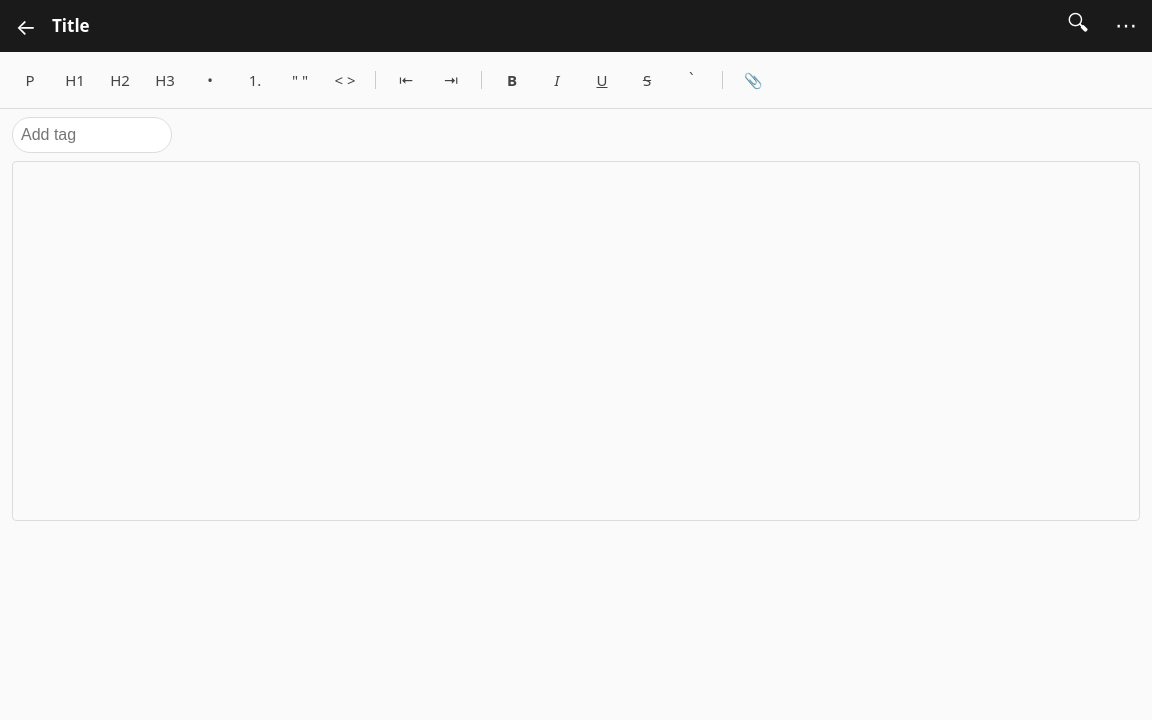
Test: NoteEditor on mobile › offers Share and Debug in the menu with share_note permission
Click the button named "Menu" at {"x": 1126, "y": 26}, box x1=1104 y1=4 x2=1148 y2=48
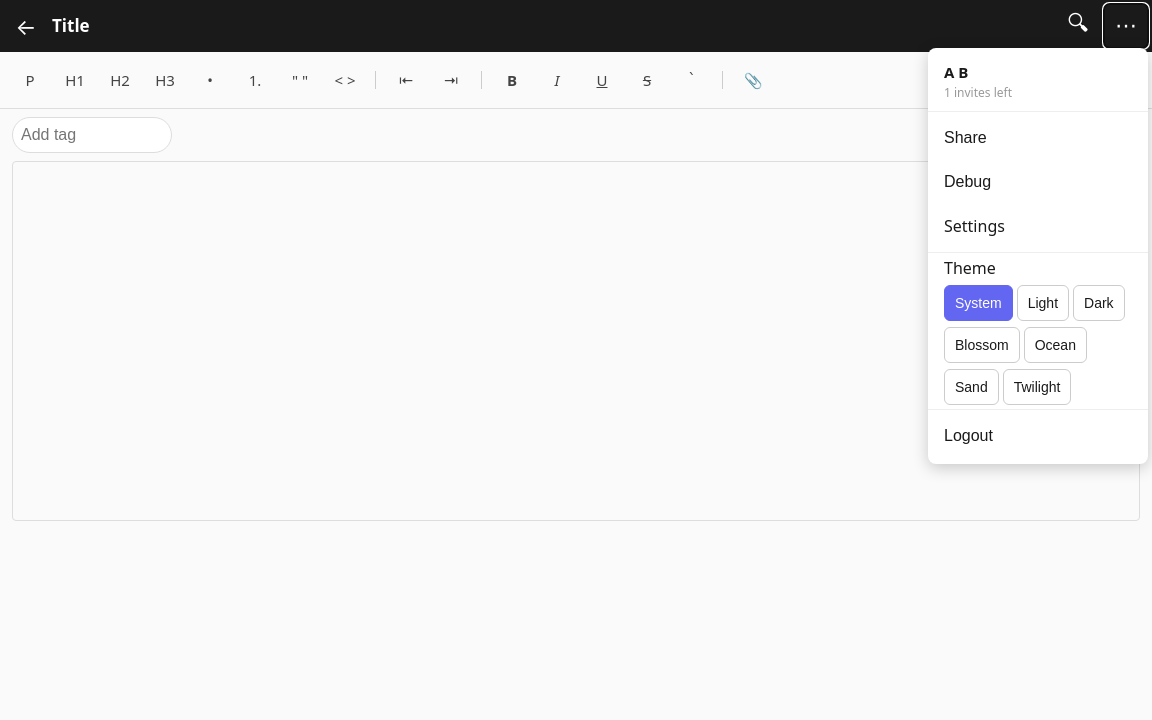
Now the menu item "Share" is shown
Now the menu item "Debug" is shown, box x1=928 y1=160 x2=1148 y2=204
Click the menu item "Share" at {"x": 1038, "y": 138}, box x1=928 y1=116 x2=1148 y2=160
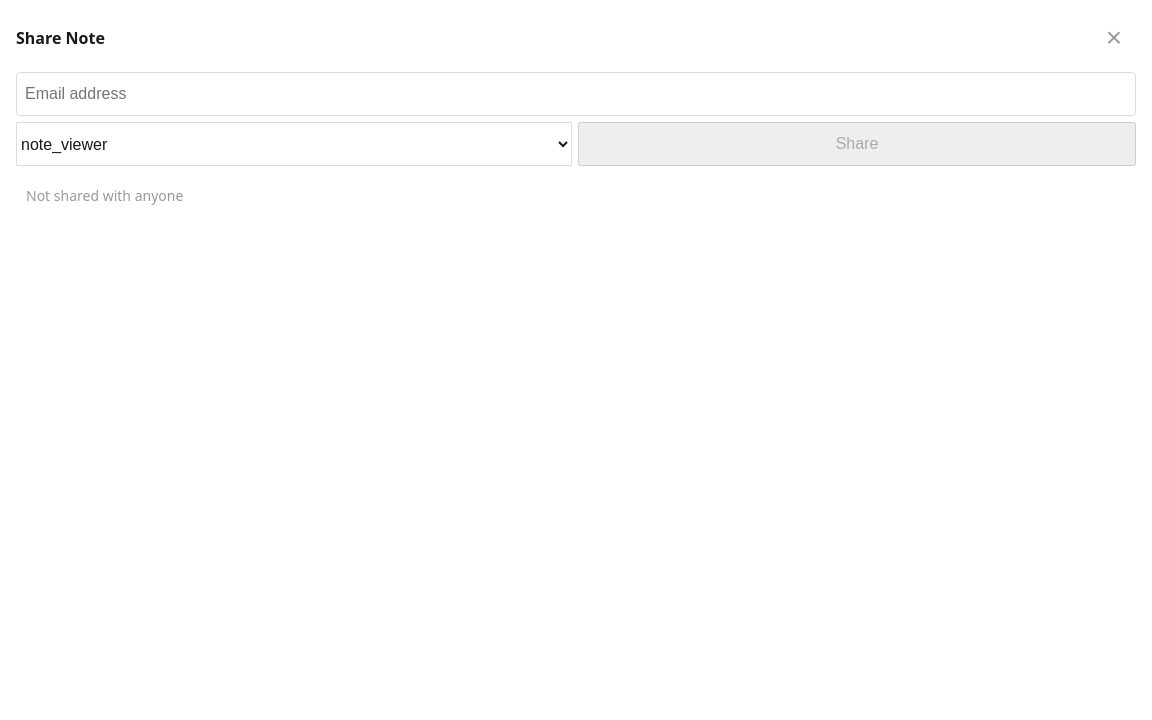
Now the heading "Share note" is shown, box x1=16 y1=27 x2=105 y2=49
